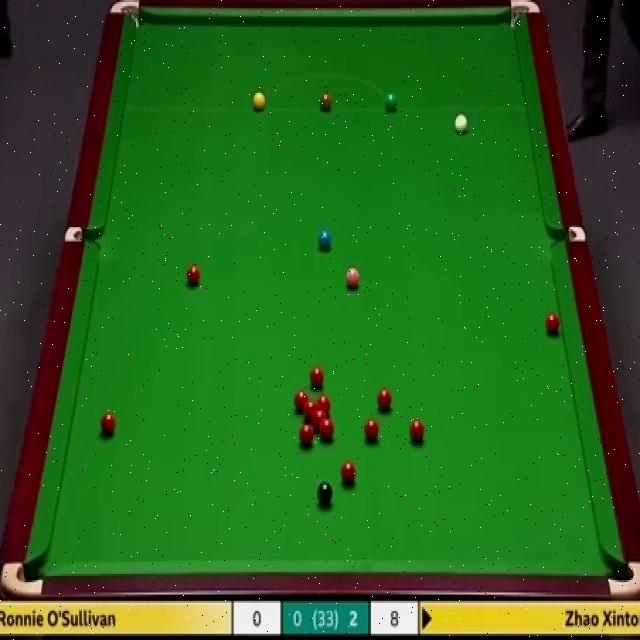black-ball: (316, 480, 332, 506)
blue-ball: (318, 227, 332, 253)
brown-ball: (319, 91, 332, 110)
green-ball: (385, 92, 398, 110)
pink-ball: (344, 266, 361, 289)
red-ball: (407, 418, 427, 446), (363, 416, 380, 446), (376, 384, 392, 414), (100, 410, 116, 438), (342, 458, 356, 488), (315, 393, 332, 417), (545, 311, 560, 338), (299, 423, 314, 448), (187, 262, 201, 288), (319, 417, 334, 441), (310, 366, 325, 390), (293, 386, 308, 410), (302, 396, 316, 421), (312, 408, 327, 429)
white-ball: (453, 113, 468, 136)
yellow-ball: (252, 91, 266, 110)
